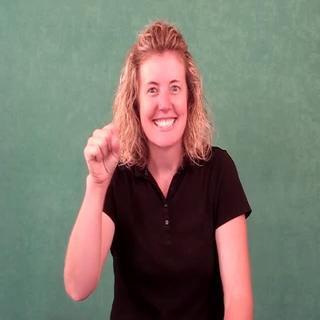yes: (75, 120, 131, 180)
